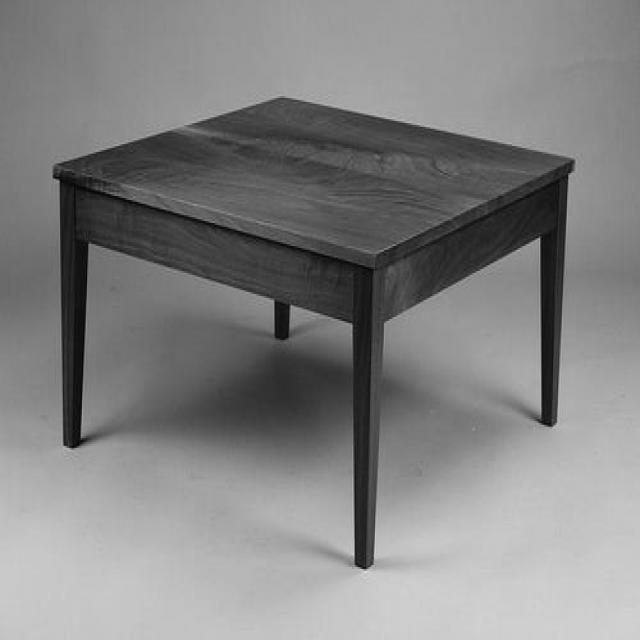table: (53, 94, 574, 565)
